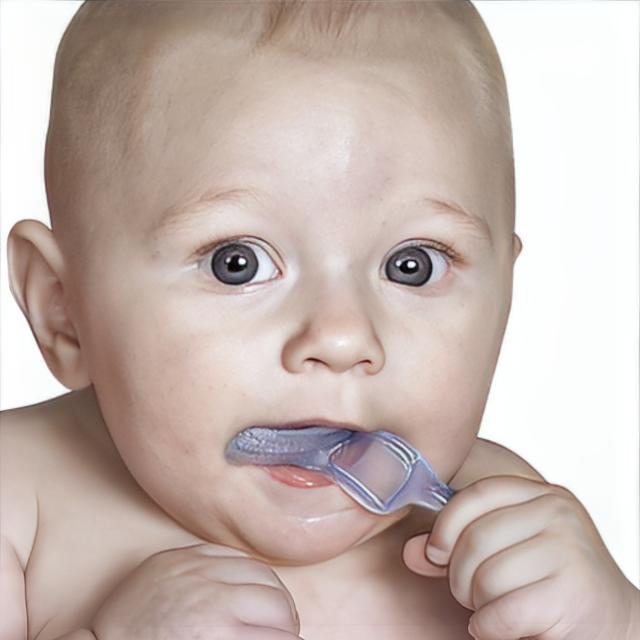Fear: (43, 4, 515, 566)
